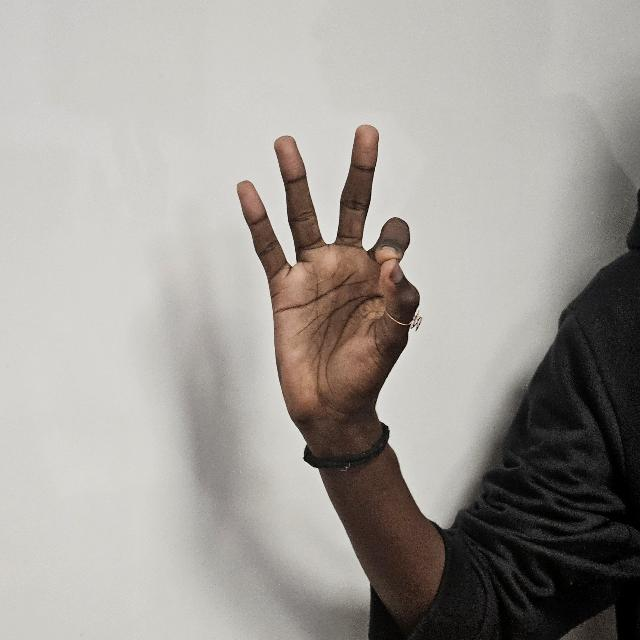Bolinha: (238, 124, 427, 428)
